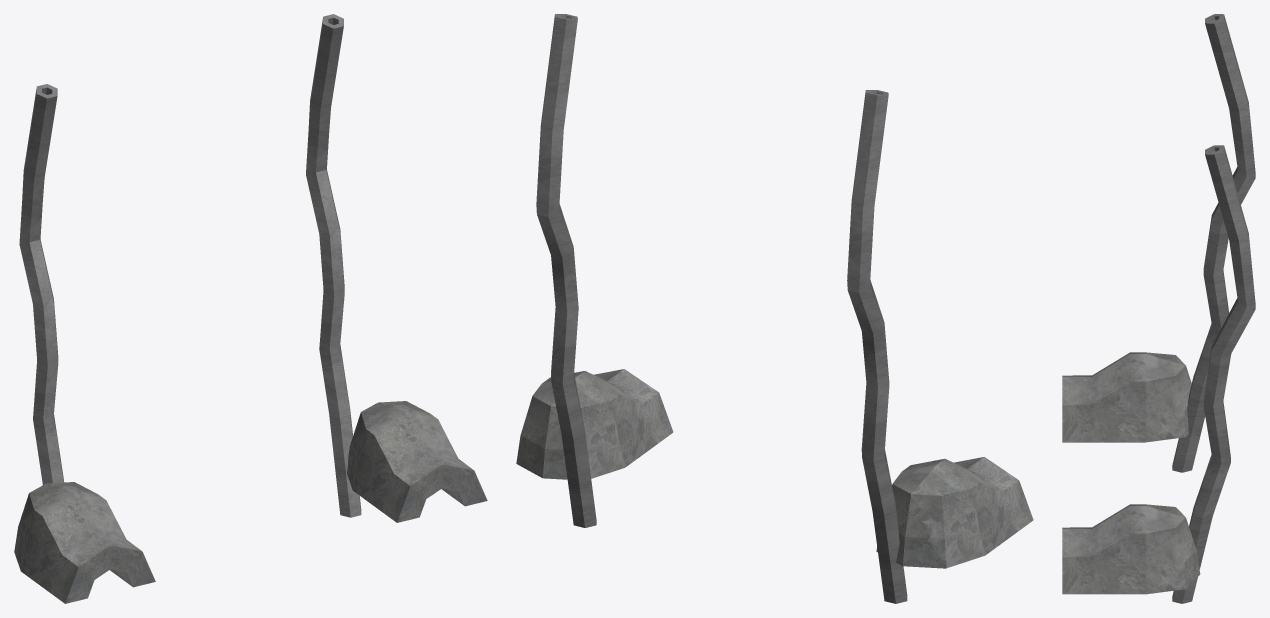
Rendered from ovens.fbx.
The picture shows the model from 3 angles, left to right: view 1: azimuth 30°, elevation 25°; view 2: azimuth 150°, elevation 25°; view 3: azimuth 270°, elevation 25°; orthographic projection. The views are drawn at different scales.
Visible parts, largest first — view 1: chimneys2; view 2: chimneys2; view 3: chimneys2.
Boxes of the visible parts, left/top/right/bottom form: chimneys2: left=14, top=14, right=487, bottom=603; chimneys2: left=516, top=14, right=1033, bottom=603; chimneys2: left=1062, top=14, right=1255, bottom=603.
Bounding box in the file's own units: 3.49 × 3.79 × 1.47.
